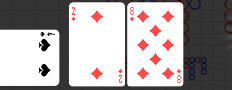4C: (38, 30, 56, 37)
8D: (128, 6, 135, 22)
